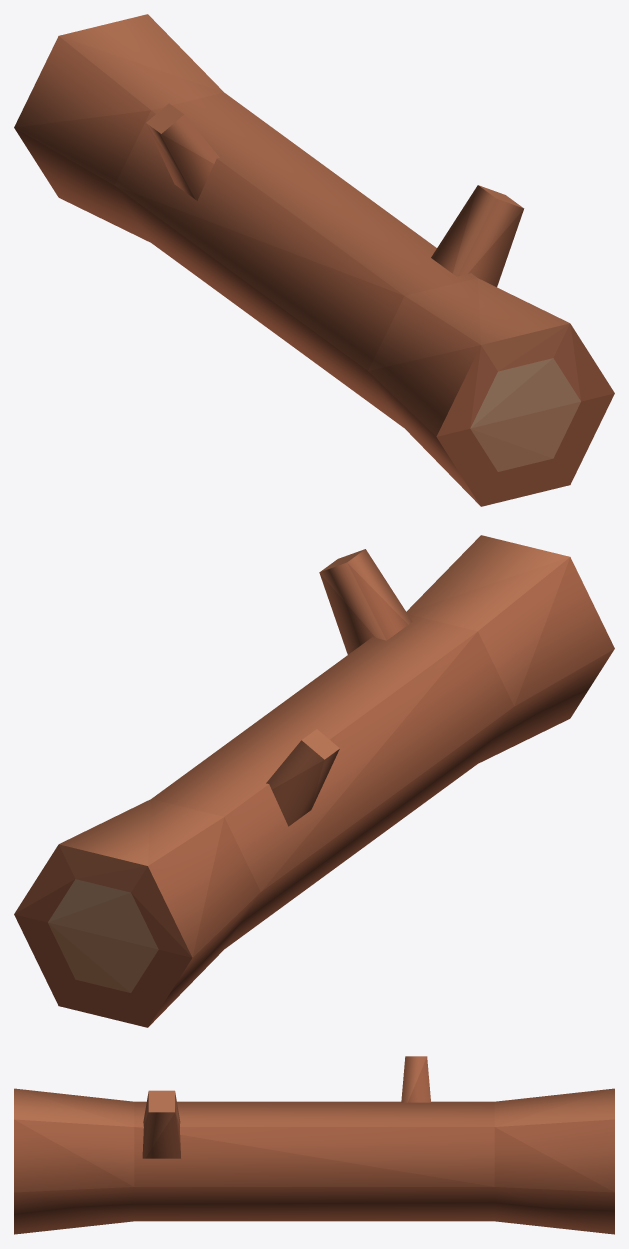
The model's file is survival_tree_log.glb.
The picture shows the model from 3 angles, top to bottom: view 1: azimuth 30°, elevation 25°; view 2: azimuth 150°, elevation 25°; view 3: azimuth 270°, elevation 25°; orthographic projection. The views are drawn at different scales.
Visible parts, largest first — view 1: survival_tree_log; view 2: survival_tree_log; view 3: survival_tree_log.
Part boxes in pixels (x1,y1,x2,y2): survival_tree_log: (14, 14, 614, 506); survival_tree_log: (14, 535, 614, 1027); survival_tree_log: (14, 1056, 614, 1234).
Size of the model in its own units: 0.2495 by 0.2771 by 1.
